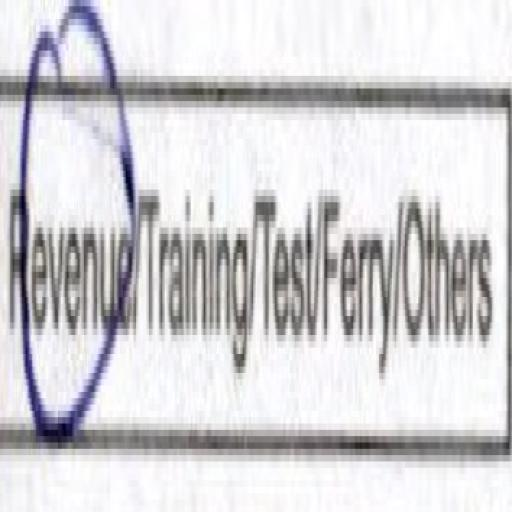check: (1, 0, 134, 512)
